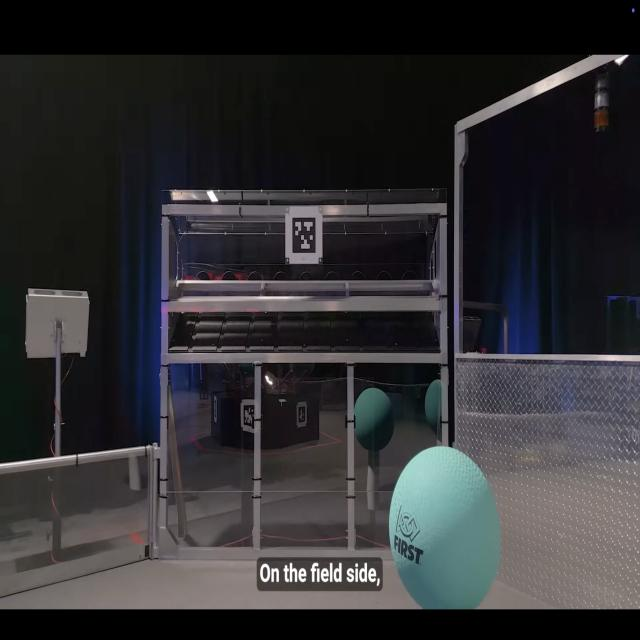algae: (385, 442, 513, 608)
